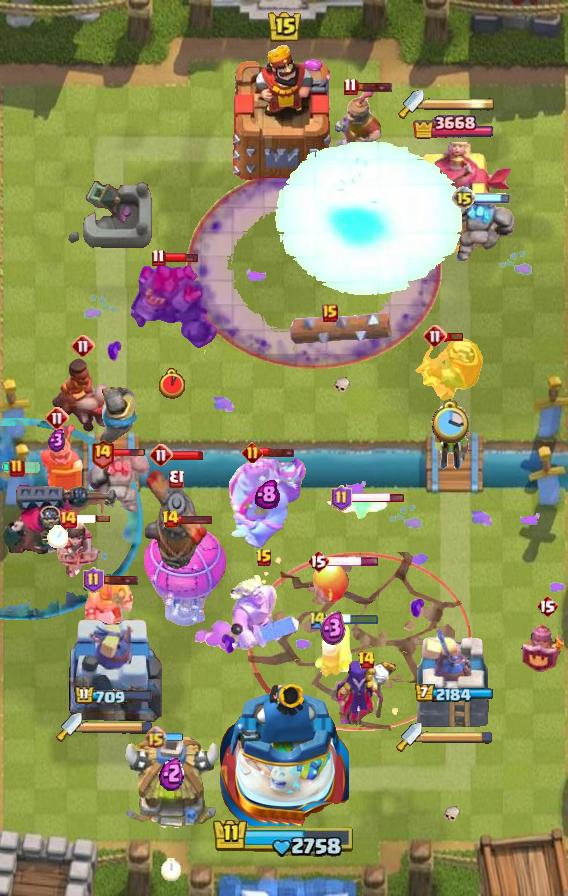axe: (334, 658, 398, 724)
bar: (394, 142, 512, 256), (66, 611, 162, 731), (414, 623, 492, 731)
barbarian: (324, 494, 390, 524)
cannon-cart: (142, 521, 230, 629)
cannoneer-tower: (127, 262, 217, 350)
clock: (212, 817, 356, 859)
dark-prince: (137, 460, 215, 572)
earthquake: (30, 423, 84, 499), (335, 86, 383, 150)
electro-spirit: (320, 611, 346, 645), (160, 756, 185, 791), (256, 479, 280, 509), (48, 428, 66, 452)
elite-barbarian: (50, 357, 116, 433)
elixir: (430, 399, 469, 445), (159, 368, 185, 399), (48, 524, 69, 547), (161, 858, 181, 882)
emote: (351, 492, 406, 505), (325, 613, 378, 626), (327, 556, 380, 567), (163, 251, 199, 264), (356, 81, 393, 93), (102, 574, 139, 586), (260, 446, 296, 458), (474, 192, 510, 203), (178, 514, 213, 525), (170, 451, 204, 462), (75, 514, 111, 524), (112, 448, 146, 458), (444, 330, 464, 342), (164, 733, 184, 744)
firecracker: (98, 387, 137, 445)
goblin-giant: (82, 578, 136, 630)
goblin-hut: (225, 573, 303, 655)
guard: (248, 553, 472, 732)
hog: (310, 561, 350, 605)
ice-spirit: (0, 462, 42, 474)
inferno-tower: (0, 483, 120, 559)
king-tower: (219, 678, 349, 826), (230, 43, 338, 181)
king-tower-bar: (424, 97, 496, 111), (82, 720, 154, 734), (422, 730, 494, 744)
lava-hound: (226, 455, 308, 551)
mega-knight: (269, 138, 466, 299)
minion: (289, 312, 396, 348)
pad_0: (0, 418, 144, 624)
prince: (120, 737, 222, 833)
princess: (520, 615, 568, 675)
rocket: (186, 166, 442, 370)
selected: (413, 112, 493, 143), (74, 685, 154, 707), (414, 684, 494, 704)
skeleton-dragon: (54, 519, 104, 577)
skeleton-king: (413, 333, 485, 405)
text: (89, 438, 114, 469), (452, 186, 476, 210), (423, 324, 447, 348), (71, 334, 95, 358), (45, 406, 69, 430), (149, 443, 173, 467), (83, 567, 105, 593), (332, 485, 353, 511), (145, 727, 168, 750), (307, 549, 329, 573), (536, 594, 558, 618), (241, 441, 263, 462), (308, 609, 328, 630), (58, 509, 78, 529), (161, 509, 180, 529), (356, 650, 375, 670), (255, 548, 273, 568), (9, 458, 25, 478), (322, 304, 338, 322), (151, 248, 165, 267), (343, 77, 357, 95)
tombstone: (312, 621, 354, 679)
valkyrie-evolution: (447, 197, 519, 267), (87, 449, 153, 515)
zap: (433, 415, 471, 473)
